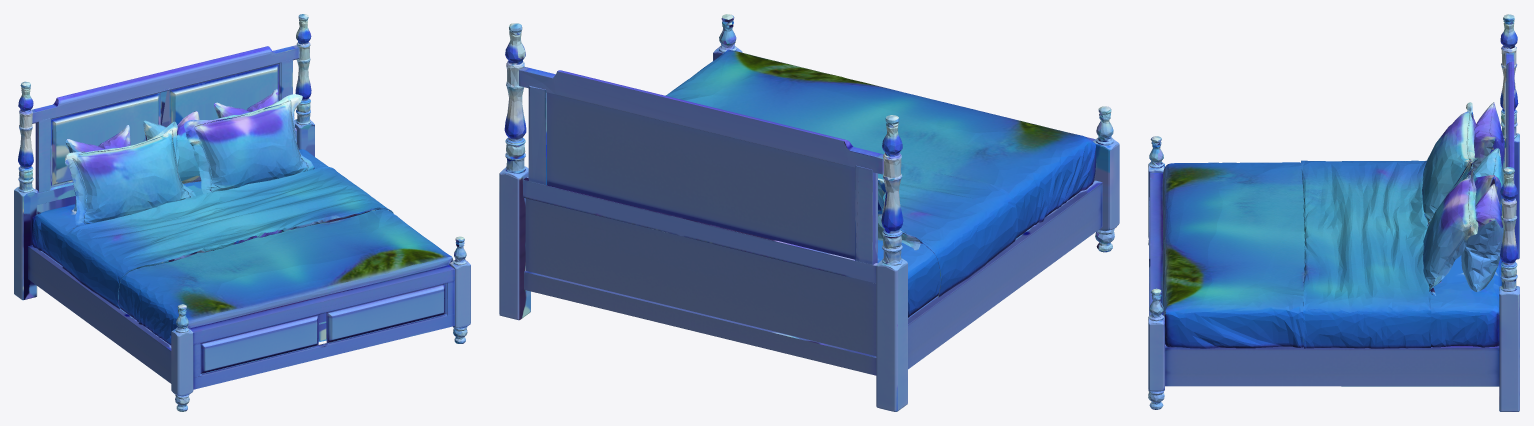
Rendered from edited_mesh.glb.
3 renders of one model, left to right at view 1: azimuth 30°, elevation 25°; view 2: azimuth 150°, elevation 25°; view 3: azimuth 270°, elevation 25°, orthographic. The views are drawn at different scales.
Parts seen in each view (by area): view 1: solid_001_wire; view 2: solid_001_wire; view 3: solid_001_wire.
Boxes of the visible parts, box(x1,y1,x2,y2) form: solid_001_wire: box(14, 14, 470, 411); solid_001_wire: box(499, 14, 1119, 411); solid_001_wire: box(1148, 14, 1519, 411).
Bounding box in the file's own units: 1.68 × 1.16 × 1.63.
1 material, 1 textured.
